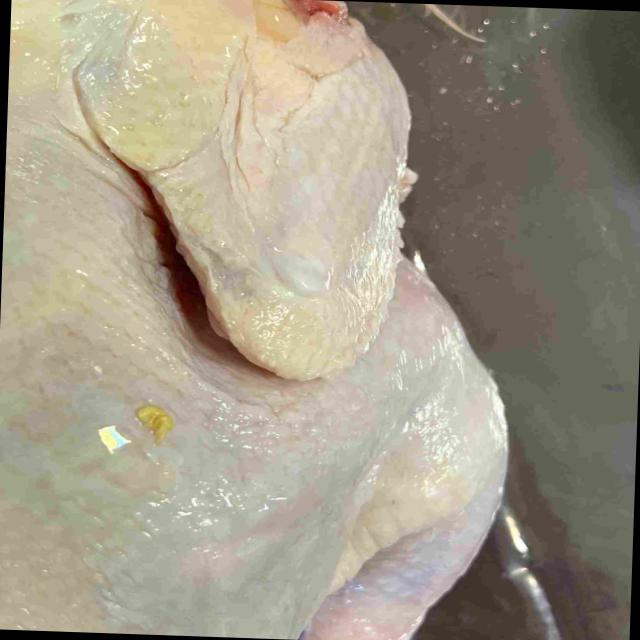back: (0, 72, 339, 639)
leg: (307, 284, 518, 640)
wing: (77, 0, 417, 374)
